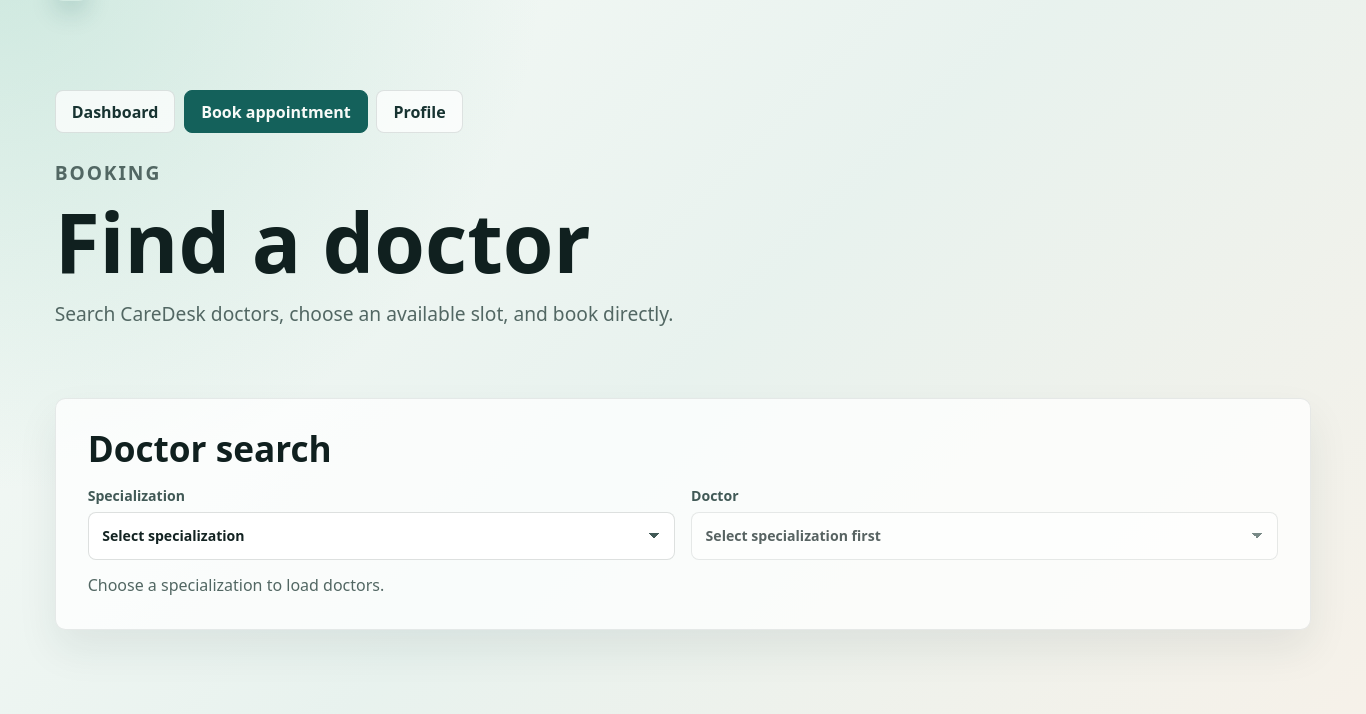
Test: appointment booking workflow › requires a slot before booking
The width and height of the screenshot is (1366, 714).
Expected: the text "Choose a specialization to load doctors." is shown, [88, 574, 384, 596]
Step 1. Select "General Medicine" in the dropdown labelled "Specialization" → point(381, 536), box [88, 512, 675, 560]
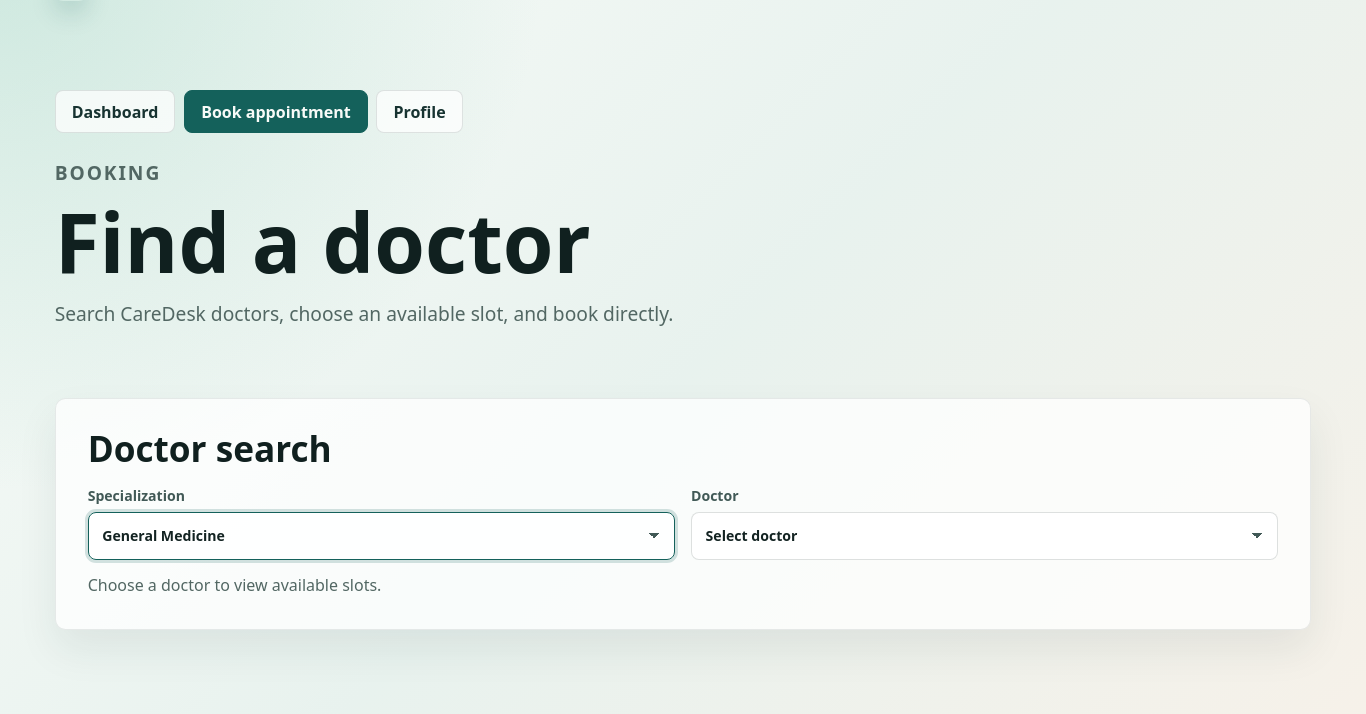
Step 2. Select "Dr. Julia Weber" in the dropdown labelled "Doctor" → point(985, 536), box [691, 512, 1278, 560]
(page scrolled)
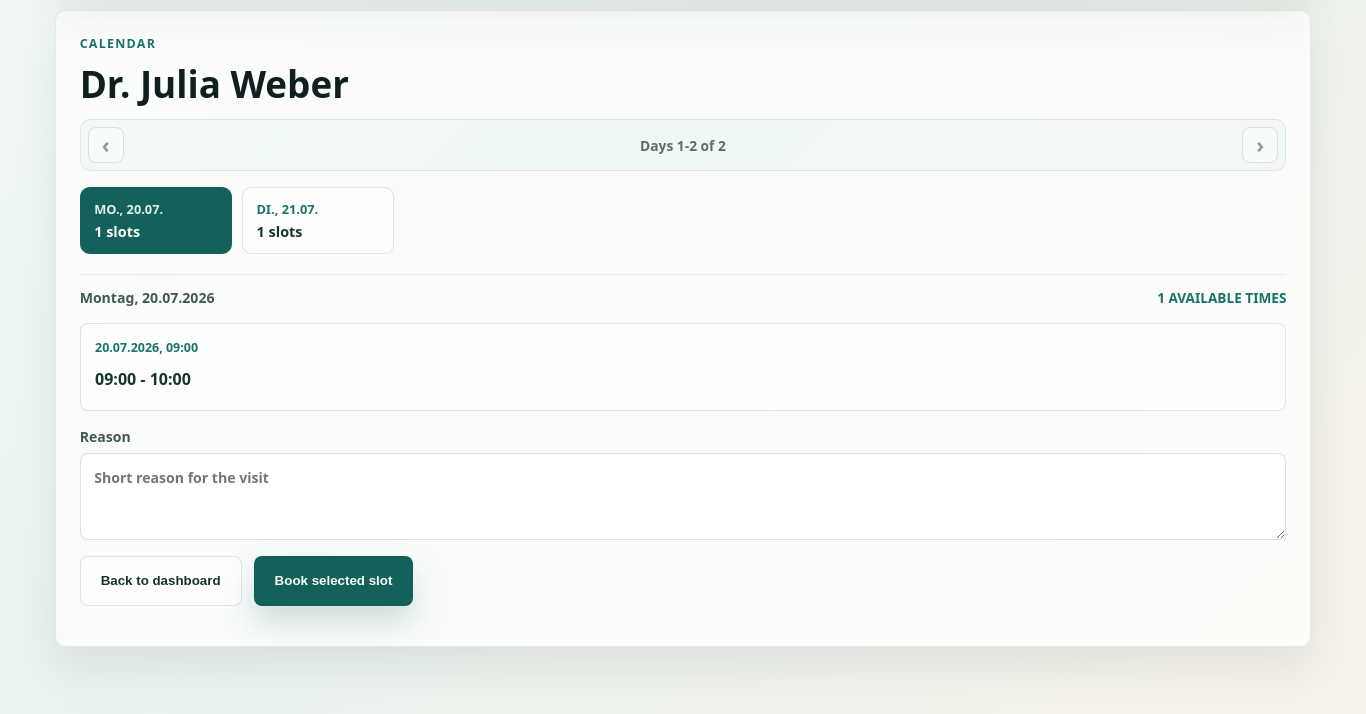
Step 3. Click the button "Book selected slot" → point(334, 581), box [254, 556, 413, 606]
(page scrolled)
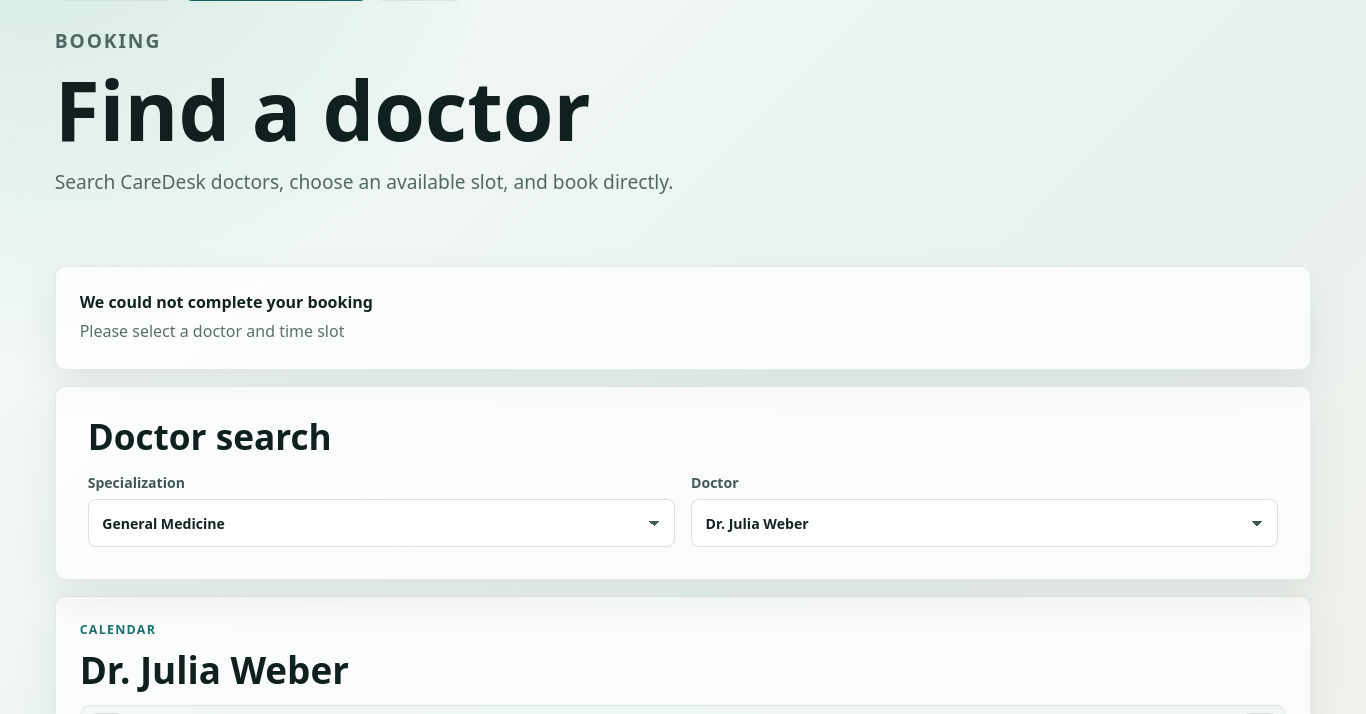
Result: the text "Please select a doctor and time slot" is shown at [80, 320, 344, 342]
